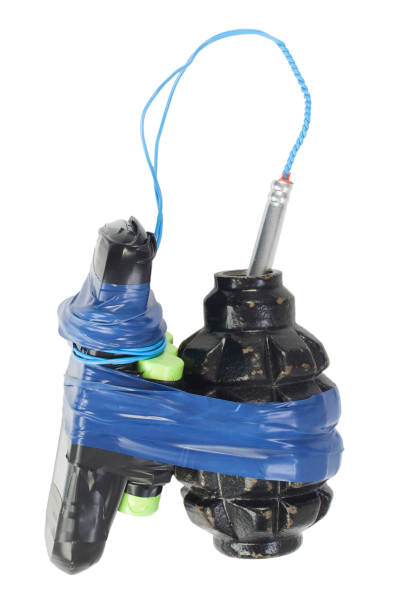e1: (172, 234, 349, 560)
